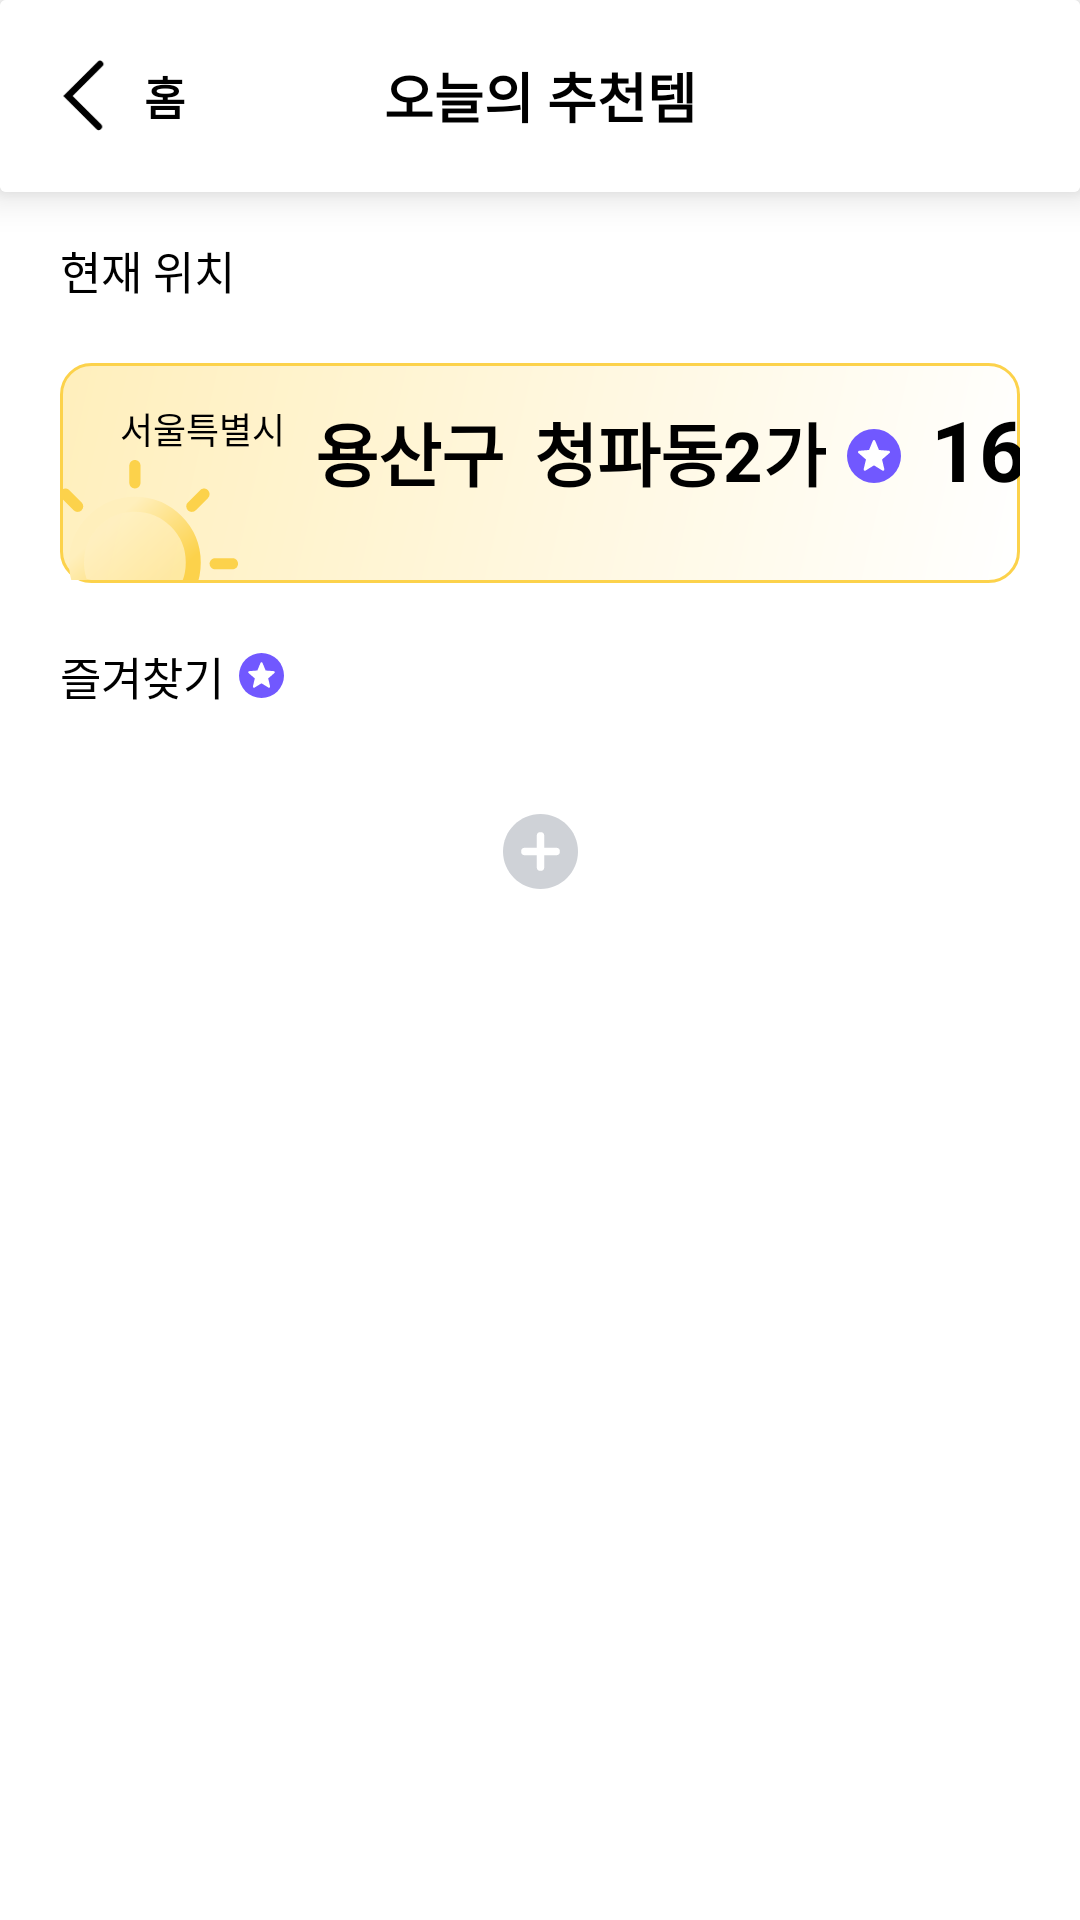

Screen size 1080*1920. Icon name, then its box in pixels as box(x1, y1, x2, y2):
addlocation: box(503, 814, 578, 889)
back: box(63, 60, 104, 131)
location bookmark: box(847, 429, 901, 483), box(239, 653, 284, 698)
